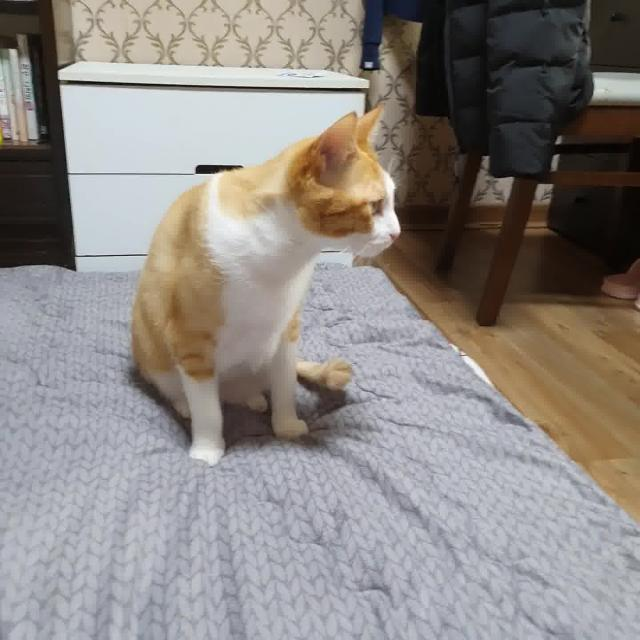cat: (131, 100, 422, 468)
